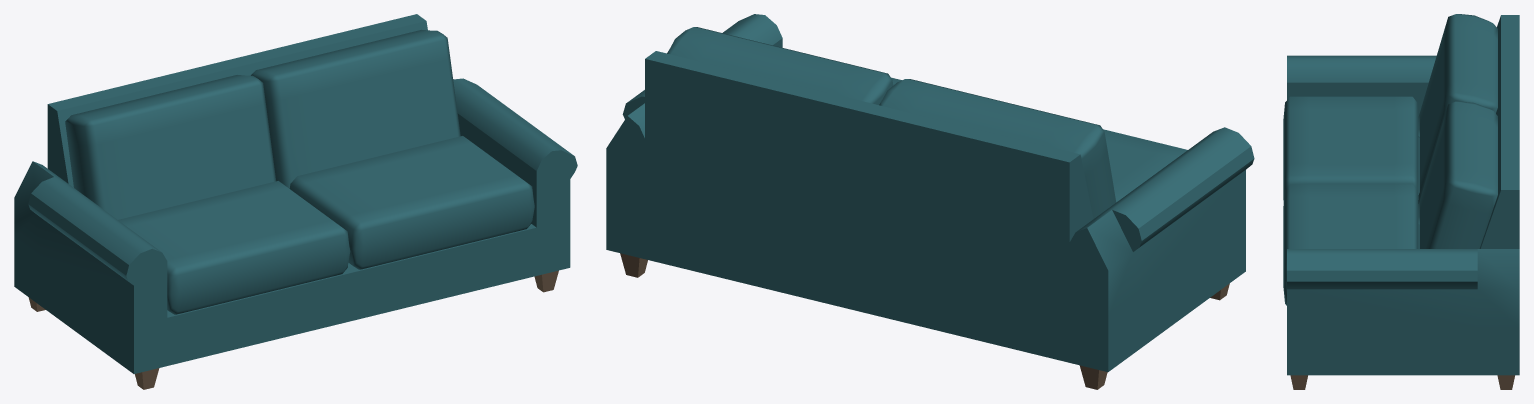
Rendered from couch_export.fbx.
3 views of the same model, side by side, from view 1: azimuth 30°, elevation 25°; view 2: azimuth 150°, elevation 25°; view 3: azimuth 270°, elevation 25° (orthographic). The views are drawn at different scales.
Parts seen in each view (by area): view 1: couch_001; view 2: couch_001; view 3: couch_001.
Part boxes in pixels (left/top/right/bottom): couch_001: left=14, top=14, right=577, bottom=389; couch_001: left=606, top=14, right=1254, bottom=389; couch_001: left=1283, top=14, right=1519, bottom=389.
Size of the model in its own units: 9.79 by 4.18 by 4.57.
